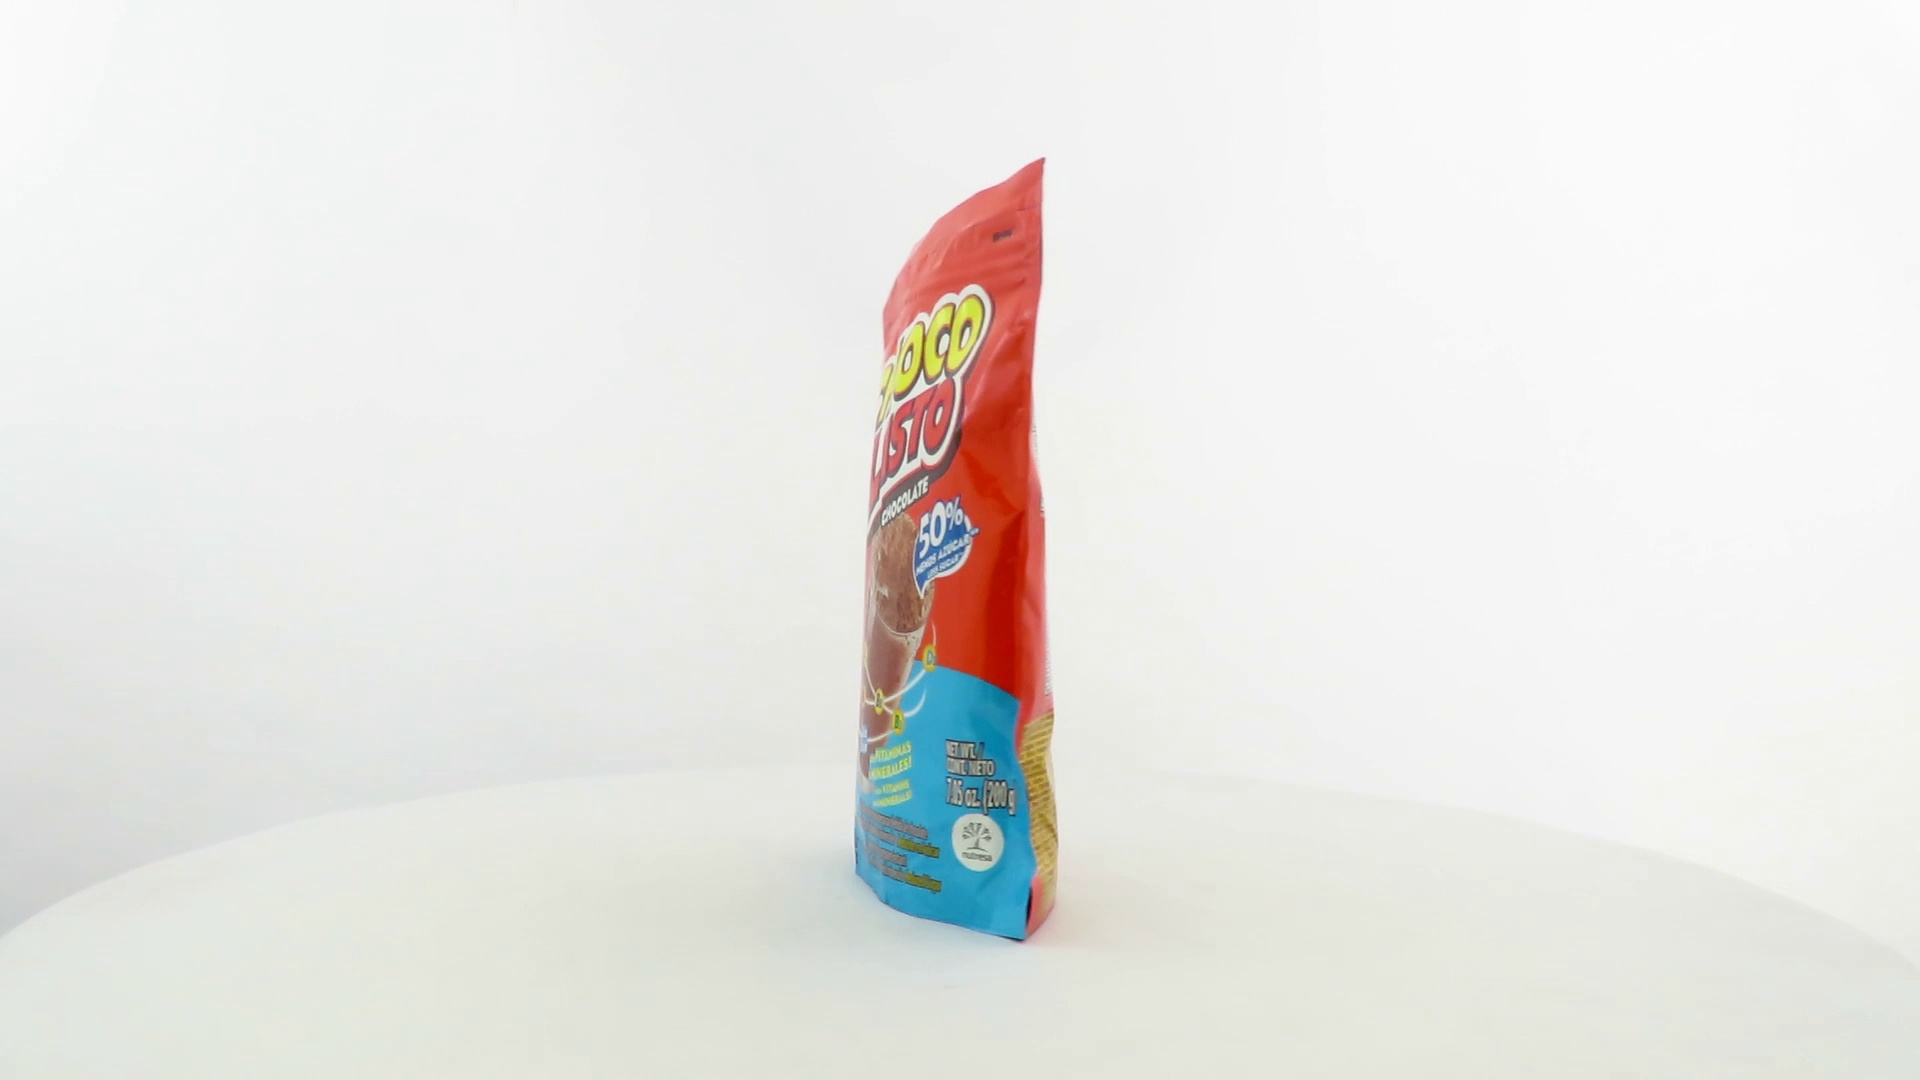COL0170104DYP20000: (849, 152, 1065, 949)
